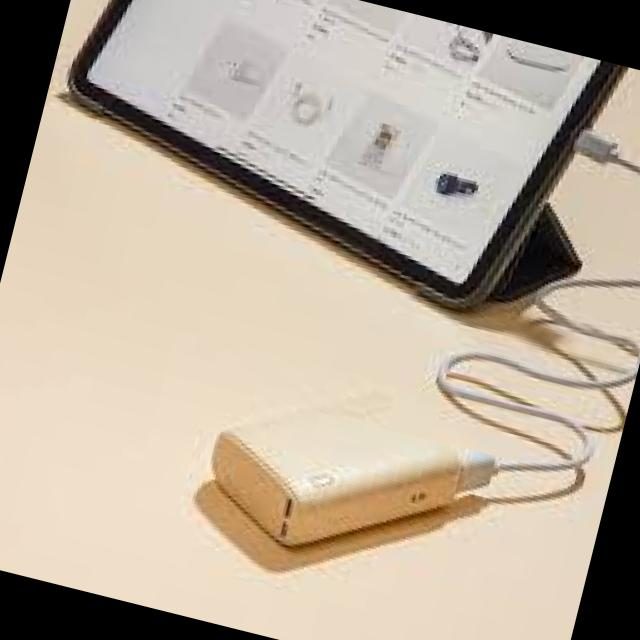power_bank: (191, 349, 483, 592)
